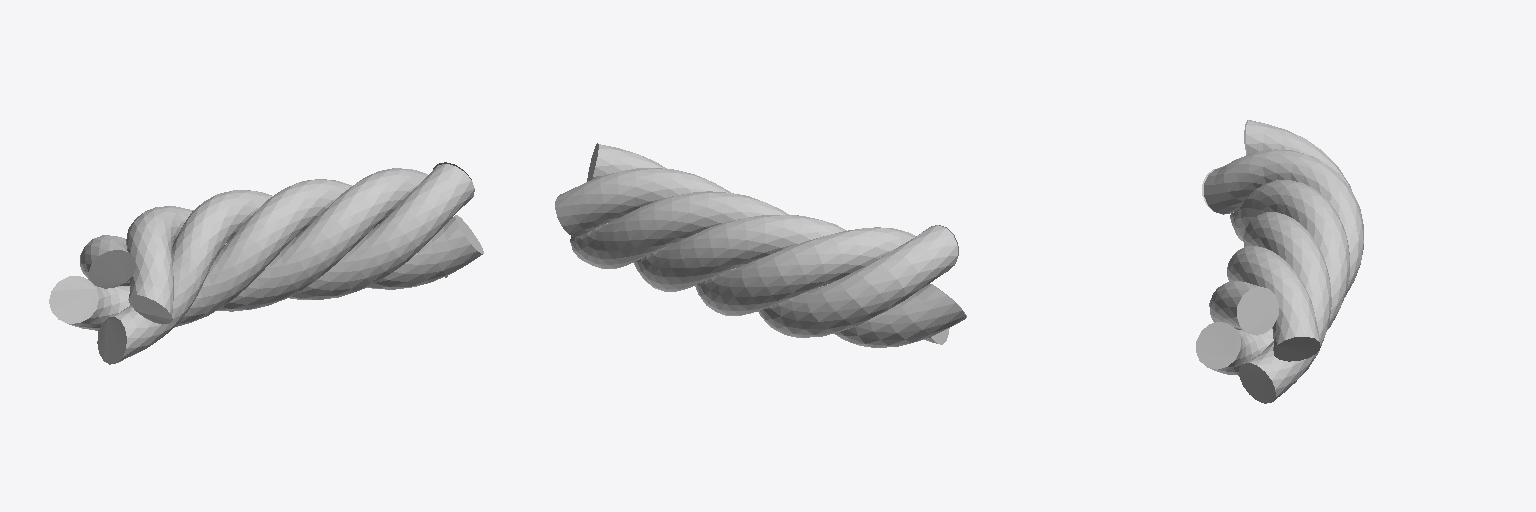
Rendered from dog rope.obj.
3 views of the same model, side by side, from view 1: azimuth 30°, elevation 25°; view 2: azimuth 150°, elevation 25°; view 3: azimuth 270°, elevation 25° (orthographic).
Parts seen in each view (by area): view 1: Circle_Circle.003, Circle.004_Circle.010, Circle.001_Circle.005, Circle.003_Circle.009; view 2: Circle_Circle.003; view 3: Circle_Circle.003, Circle.008_Circle.006, Circle.006_Circle.002.
Part boxes in pixels (x1,y1,x2,y2): Circle_Circle.003: (65,164,483,362); Circle.004_Circle.010: (49,276,98,323); Circle.001_Circle.005: (89,250,135,288); Circle.003_Circle.009: (97,317,126,364); Circle_Circle.003: (555,144,965,347); Circle_Circle.003: (1196,120,1363,401); Circle.008_Circle.006: (1238,286,1278,333); Circle.006_Circle.002: (1239,363,1274,403).
Size of the model in its own units: 4.14 by 1.13 by 1.5.